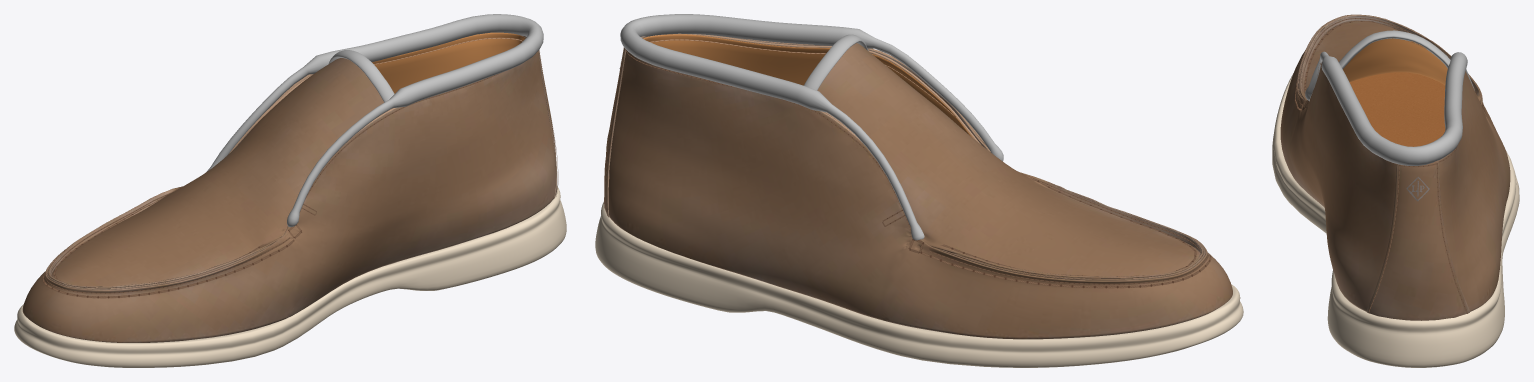
The model's file is loropiana.glb.
The picture shows the model from 3 angles, left to right: view 1: azimuth 30°, elevation 25°; view 2: azimuth 150°, elevation 25°; view 3: azimuth 270°, elevation 25°; orthographic projection. The views are drawn at different scales.
Parts seen in each view (by area): view 1: e1, Tongue, sole_Cube.001, Fur, internal_Plane.003, fengxian, external_Plane.001; view 2: e1, Tongue, sole_Cube.001, Fur, internal_Plane.003, fengxian, external_Plane.001, b1; view 3: e1, sole_Cube.001, b1, Fur, internal_Plane.004, internal_Plane.002, Tongue, fengxian.
Part boxes in pixels (x1=…): e1: x1=22, y1=51, x2=556, y2=342; Tongue: x1=48, y1=58, x2=383, y2=288; sole_Cube.001: x1=14, y1=186, x2=566, y2=367; Fur: x1=206, y1=14, x2=543, y2=227; internal_Plane.003: x1=372, y1=32, x2=525, y2=93; fengxian: x1=43, y1=73, x2=558, y2=298; external_Plane.001: x1=46, y1=74, x2=392, y2=289; e1: x1=608, y1=48, x2=1232, y2=339; Tongue: x1=817, y1=43, x2=1203, y2=278; sole_Cube.001: x1=595, y1=202, x2=1243, y2=367; Fur: x1=620, y1=14, x2=1003, y2=240; internal_Plane.003: x1=643, y1=34, x2=973, y2=138; fengxian: x1=605, y1=47, x2=1211, y2=288; external_Plane.001: x1=651, y1=33, x2=1205, y2=280; b1: x1=604, y1=36, x2=650, y2=217; e1: x1=1280, y1=14, x2=1510, y2=311; sole_Cube.001: x1=1272, y1=73, x2=1519, y2=367; b1: x1=1366, y1=160, x2=1469, y2=320; Fur: x1=1305, y1=30, x2=1474, y2=165; internal_Plane.004: x1=1349, y1=72, x2=1445, y2=146; internal_Plane.002: x1=1343, y1=38, x2=1447, y2=85; Tongue: x1=1299, y1=14, x2=1480, y2=102; fengxian: x1=1294, y1=18, x2=1485, y2=313.
Size of the model in its own units: 0.2335 by 0.0926 by 0.0862.
Materials: 10 (9 with a texture image).
